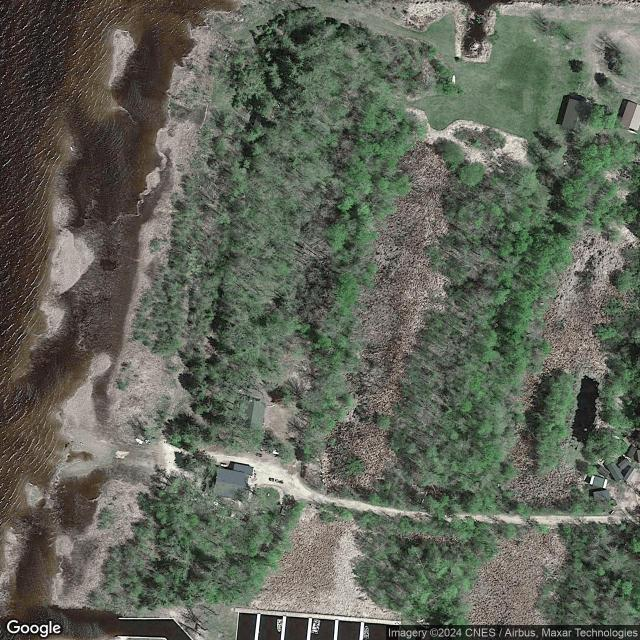Propane: (220, 462, 228, 467)
